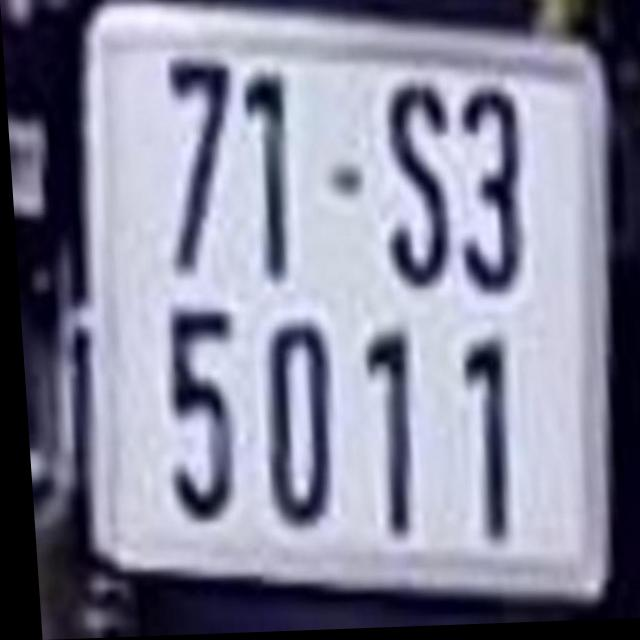0: (260, 305, 337, 522)
1: (443, 315, 506, 542), (240, 67, 298, 281), (359, 342, 413, 535)
3: (455, 86, 521, 294)
5: (165, 306, 228, 531)
7: (159, 61, 235, 272)
S: (378, 72, 448, 288)
